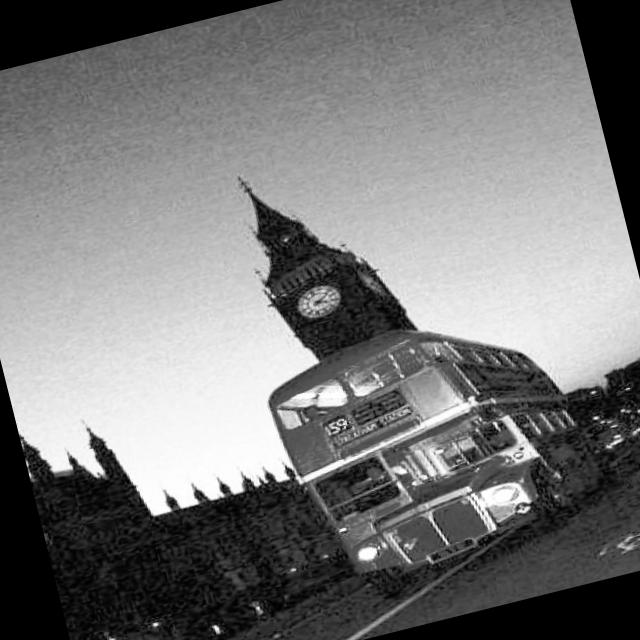Bus: (238, 285, 632, 632)
